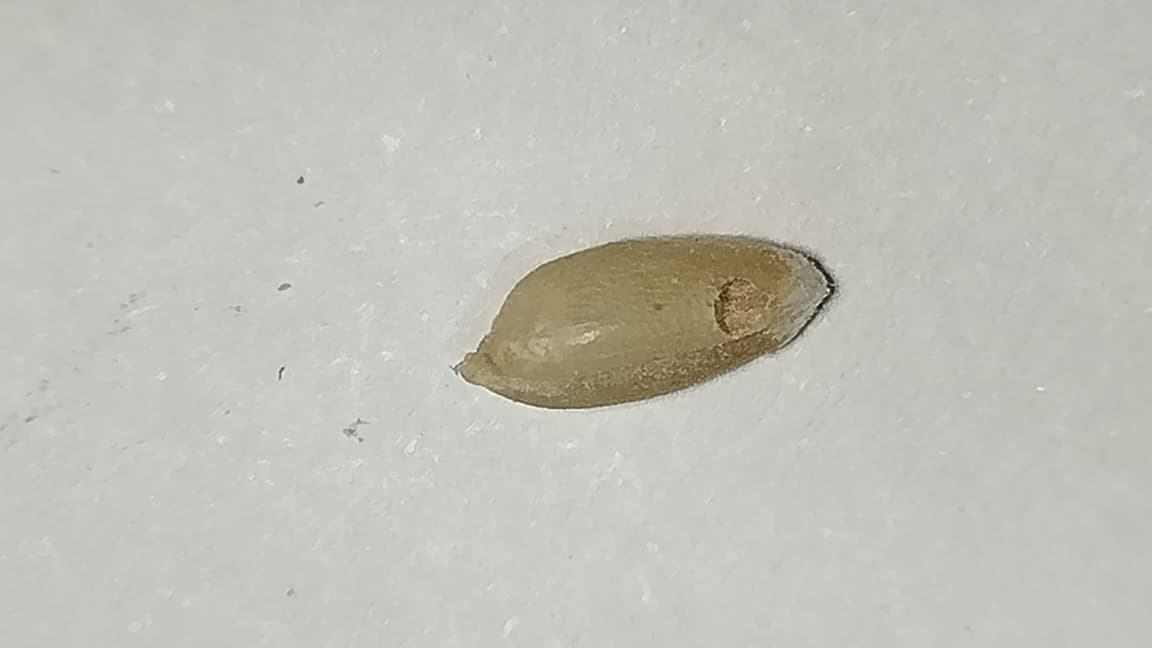damage: (465, 235, 834, 409)
insectdamage: (707, 272, 780, 345)
